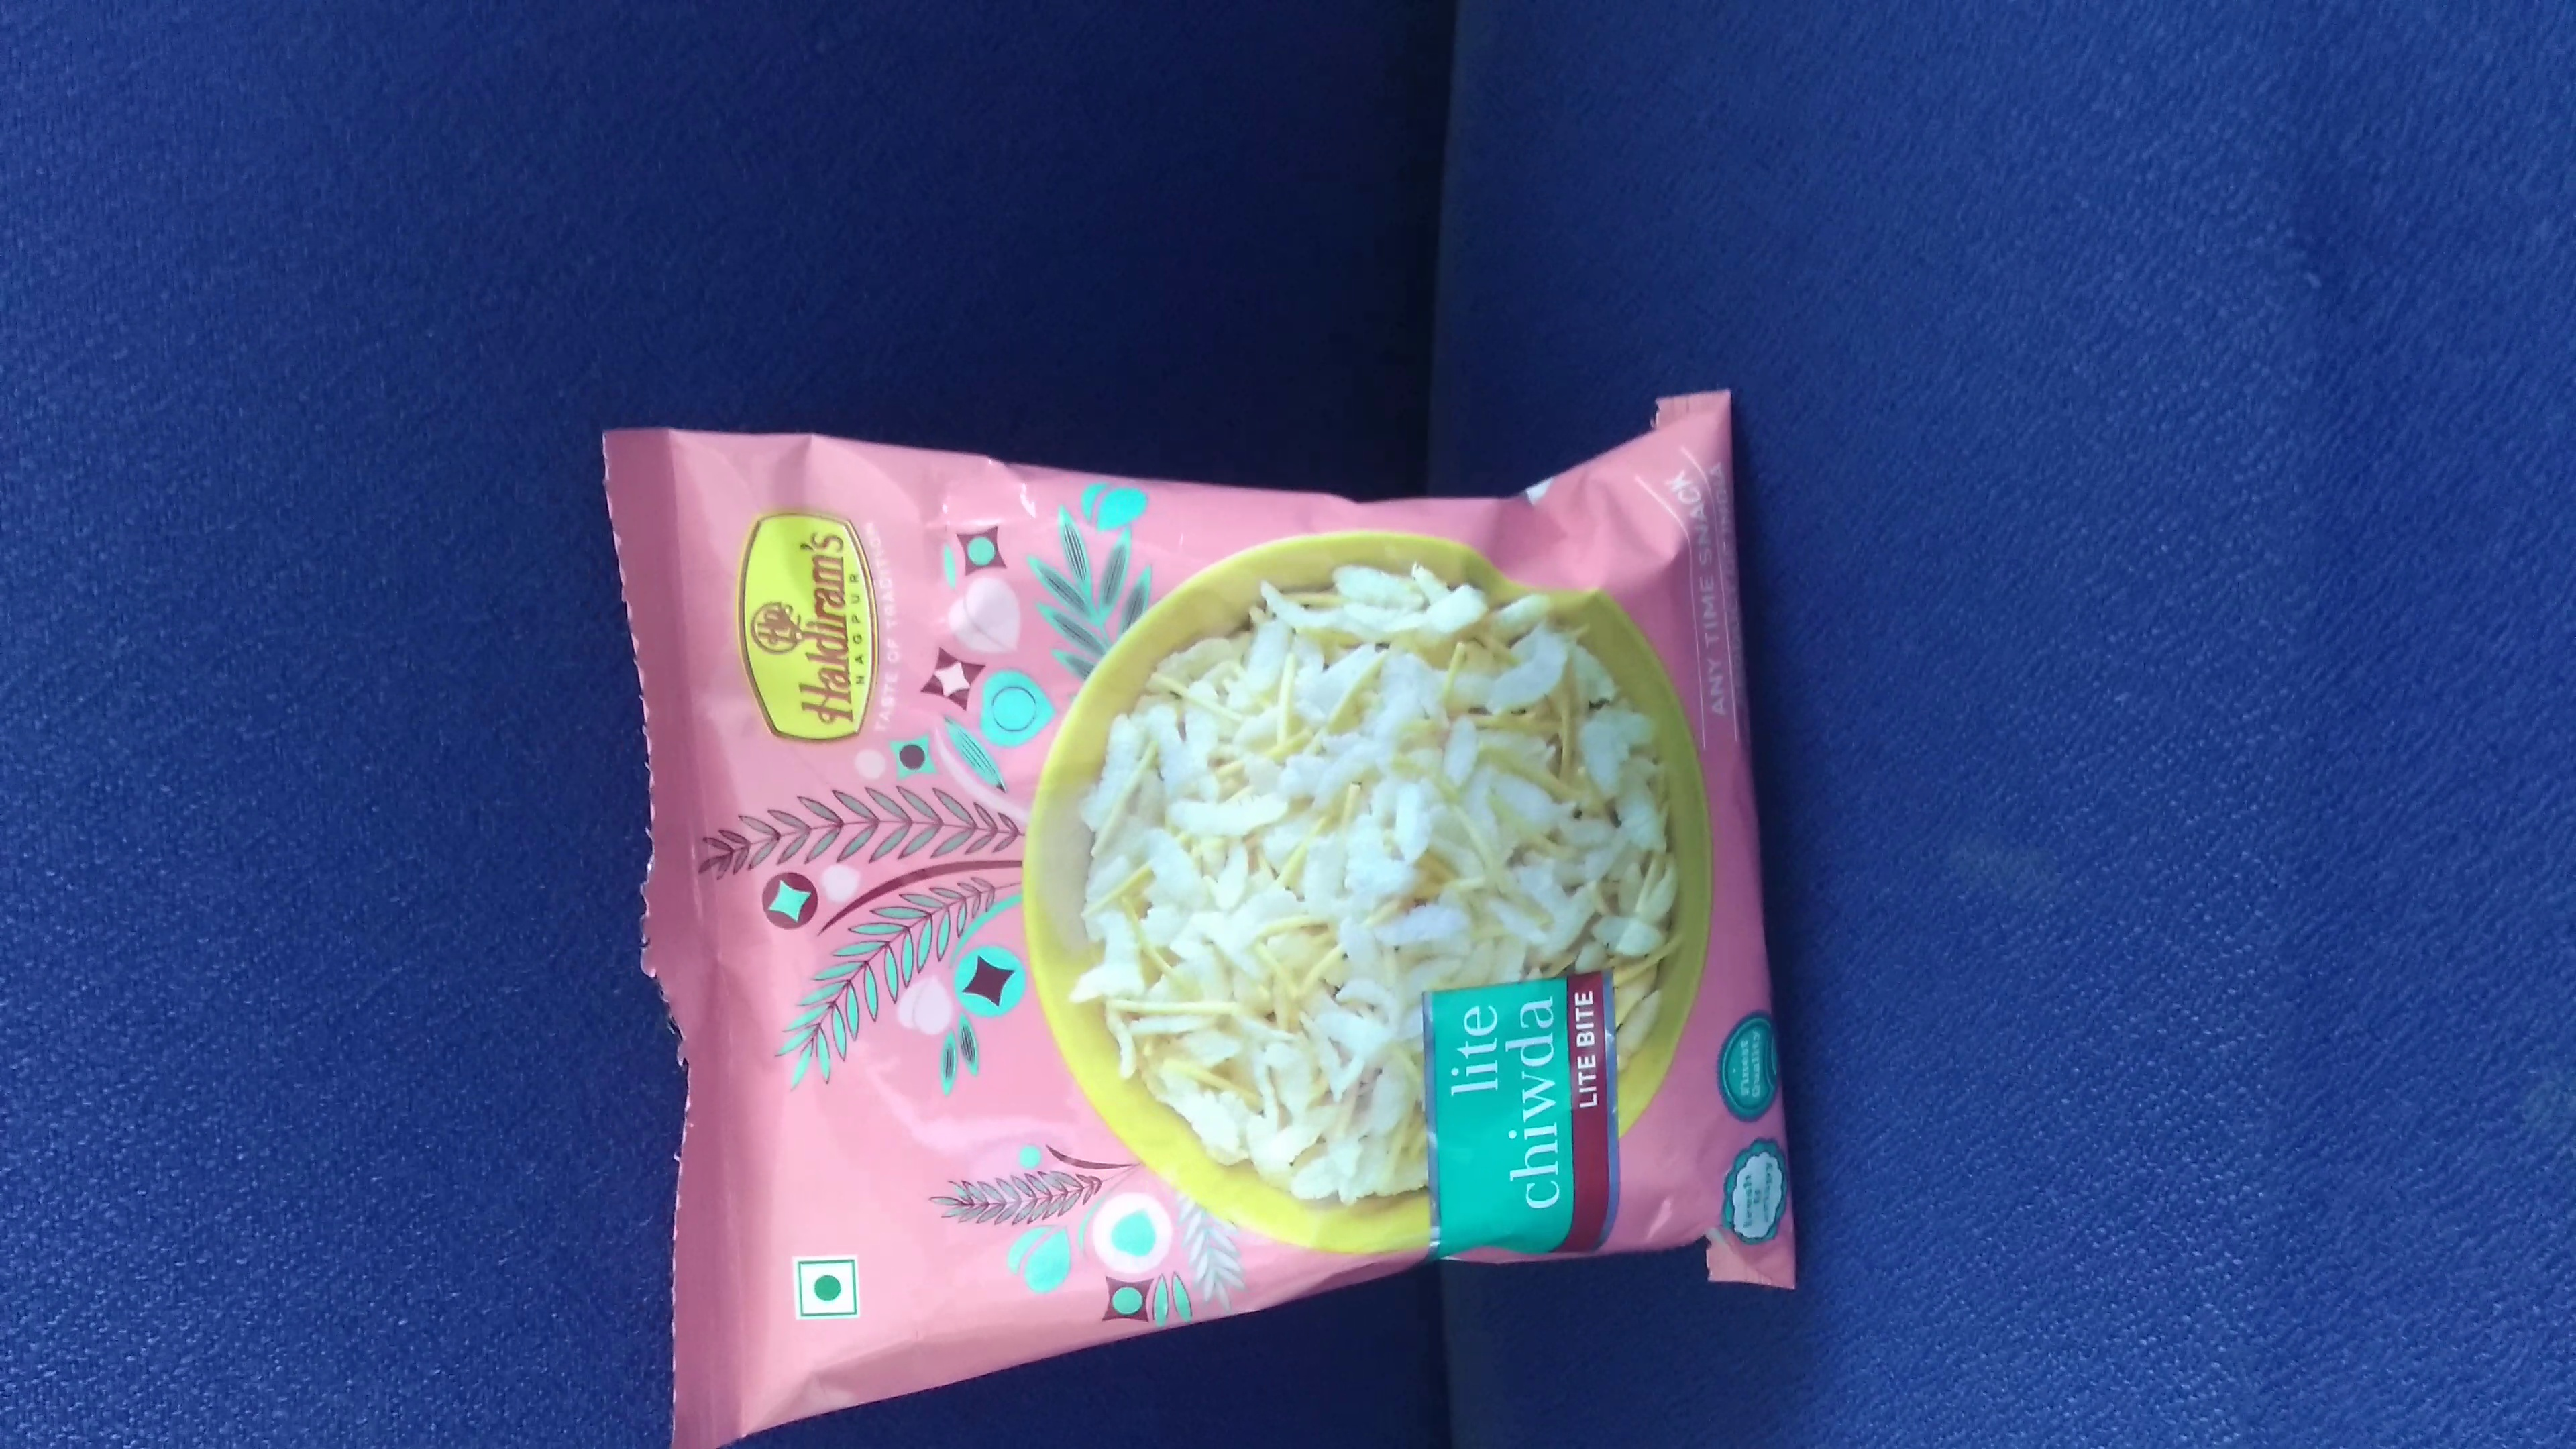liteChiwda: (580, 391, 1813, 1438)
